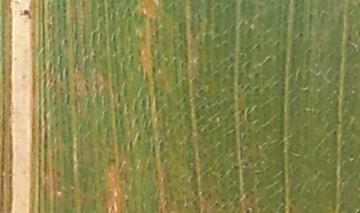tarspot: (21, 8, 32, 21), (128, 139, 135, 154), (64, 92, 71, 106), (157, 89, 166, 99), (109, 156, 119, 164), (151, 65, 157, 78), (128, 53, 135, 64), (253, 41, 261, 50), (253, 71, 261, 80), (252, 85, 260, 94), (110, 11, 116, 22), (224, 6, 230, 17), (231, 163, 239, 171), (228, 64, 236, 72), (54, 170, 62, 178), (345, 32, 352, 41), (307, 11, 314, 20), (163, 59, 170, 68), (275, 39, 282, 47), (168, 127, 175, 135), (199, 103, 206, 111), (190, 32, 197, 40), (191, 169, 198, 177), (255, 181, 262, 189), (241, 161, 249, 168), (79, 1, 86, 9), (222, 40, 228, 49), (179, 61, 185, 70), (228, 86, 234, 95), (90, 53, 96, 62), (57, 25, 63, 34), (62, 38, 69, 45), (55, 2, 62, 9), (91, 48, 98, 55), (331, 129, 337, 137), (240, 108, 246, 116), (181, 95, 187, 103), (29, 30, 35, 38), (255, 33, 261, 40), (297, 31, 304, 37), (348, 153, 355, 159), (340, 177, 346, 184), (170, 2, 176, 9), (257, 3, 263, 10), (244, 207, 251, 213), (177, 122, 183, 129), (124, 101, 130, 108), (313, 168, 319, 174), (306, 47, 312, 53), (272, 81, 278, 87), (239, 53, 246, 58), (123, 202, 130, 207), (294, 1, 299, 8), (54, 121, 59, 127), (213, 201, 219, 206), (123, 198, 130, 202)
